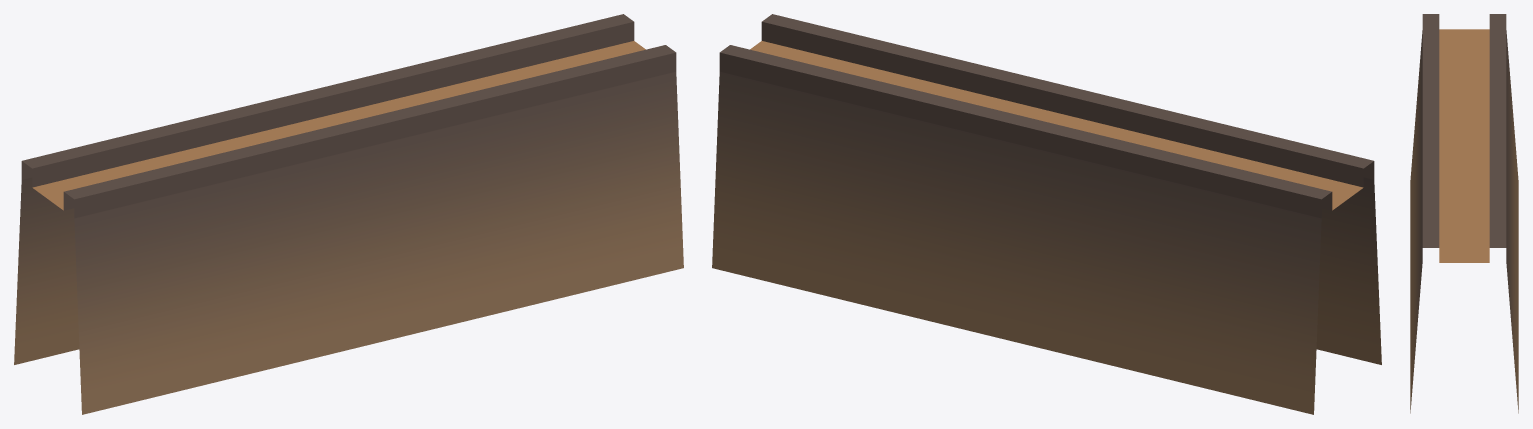
Rendered from Muraille_Mur.fbx.
3 renders of one model, left to right at view 1: azimuth 30°, elevation 25°; view 2: azimuth 150°, elevation 25°; view 3: azimuth 270°, elevation 25°, orthographic. The views are drawn at different scales.
Visible parts, largest first — view 1: Mur; view 2: Mur; view 3: Mur.
Boxes of the visible parts, left/top/right/bottom form: Mur: left=14, top=14, right=683, bottom=414; Mur: left=712, top=14, right=1381, bottom=414; Mur: left=1410, top=14, right=1518, bottom=413.
Size of the model in its own units: 66 by 22 by 12.91.
